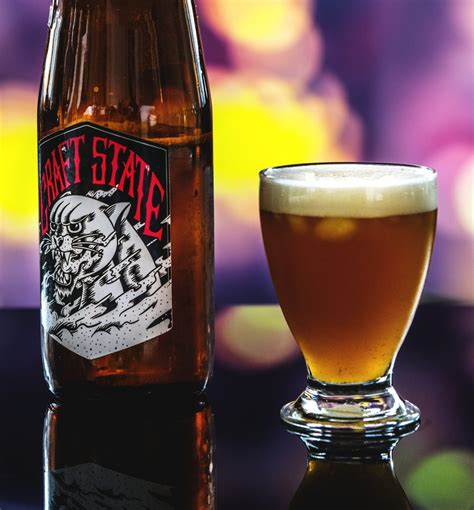alcohol: (40, 3, 212, 406), (254, 164, 442, 446)
